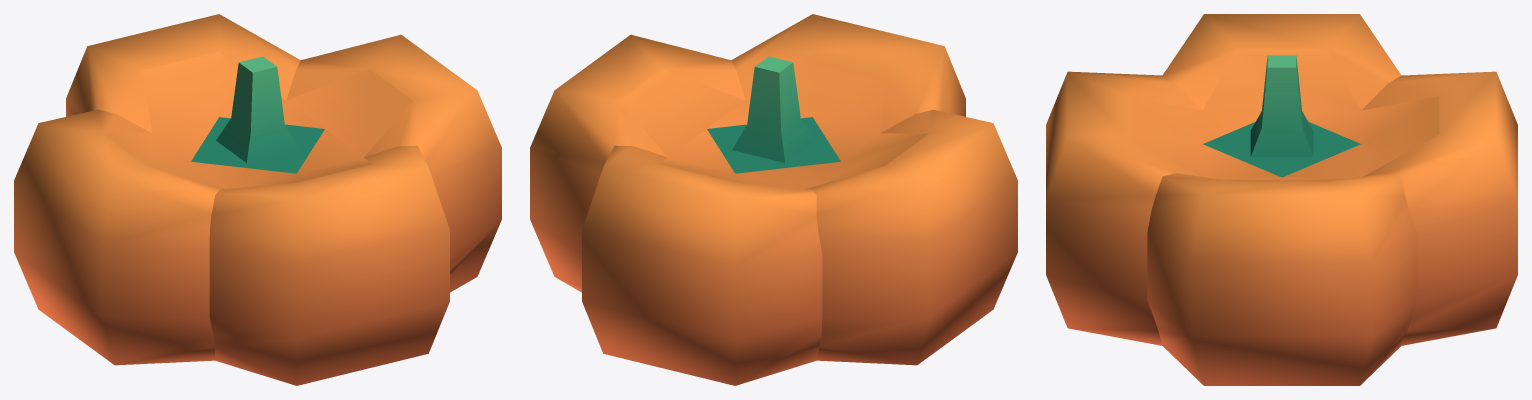
The model's file is kenney-food-pumpkin.glb.
The picture shows the model from 3 angles, left to right: view 1: azimuth 30°, elevation 25°; view 2: azimuth 150°, elevation 25°; view 3: azimuth 270°, elevation 25°; orthographic projection. The views are drawn at different scales.
Parts seen in each view (by area): view 1: pumpkin; view 2: pumpkin; view 3: pumpkin.
Boxes of the visible parts, <box> form: pumpkin: <box>14,14,501,385</box>; pumpkin: <box>530,14,1017,385</box>; pumpkin: <box>1046,14,1517,385</box>.
Bounding box in the file's own units: 0.4189 × 0.2292 × 0.4189.
1 material, 1 textured.
